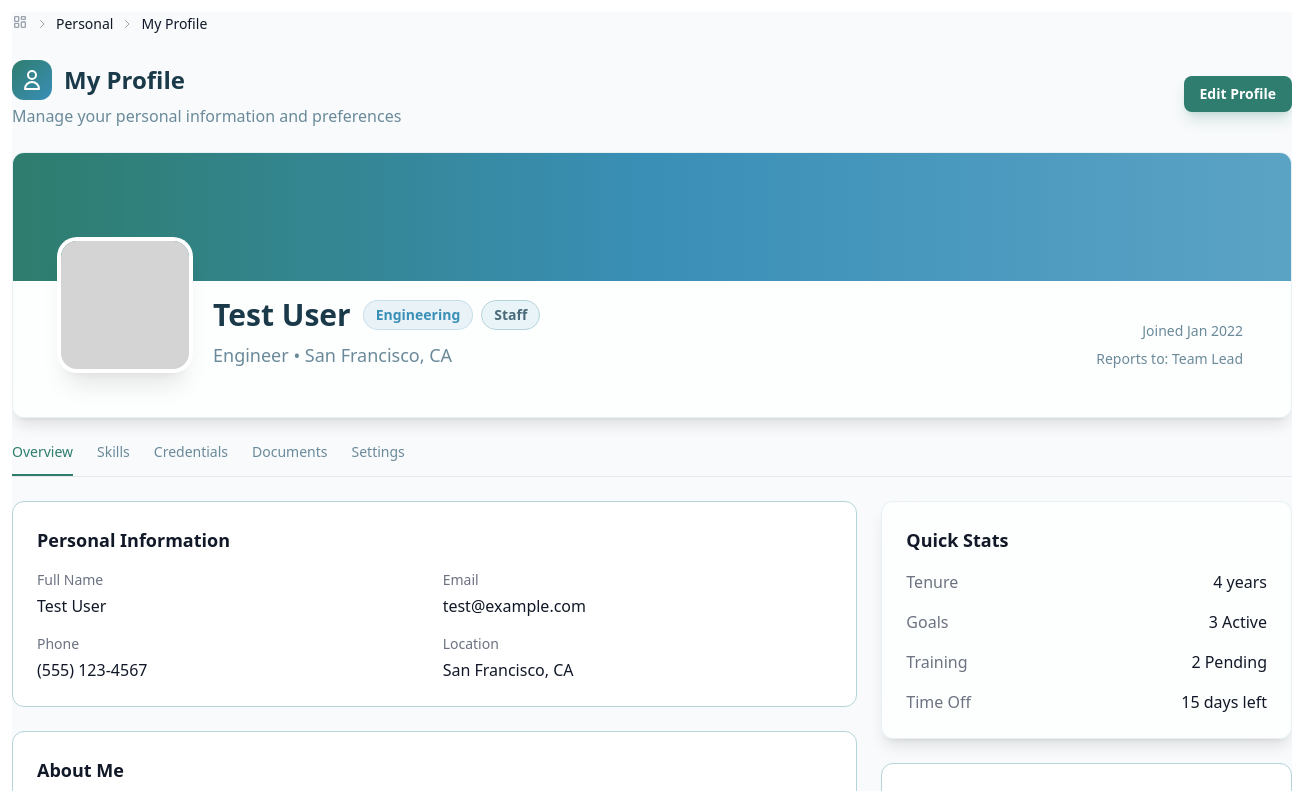
Profile Component › toggles edit mode when Edit Profile is clicked
Click the button "Edit Profile" at point(1238, 94), box [1184,76,1292,112]
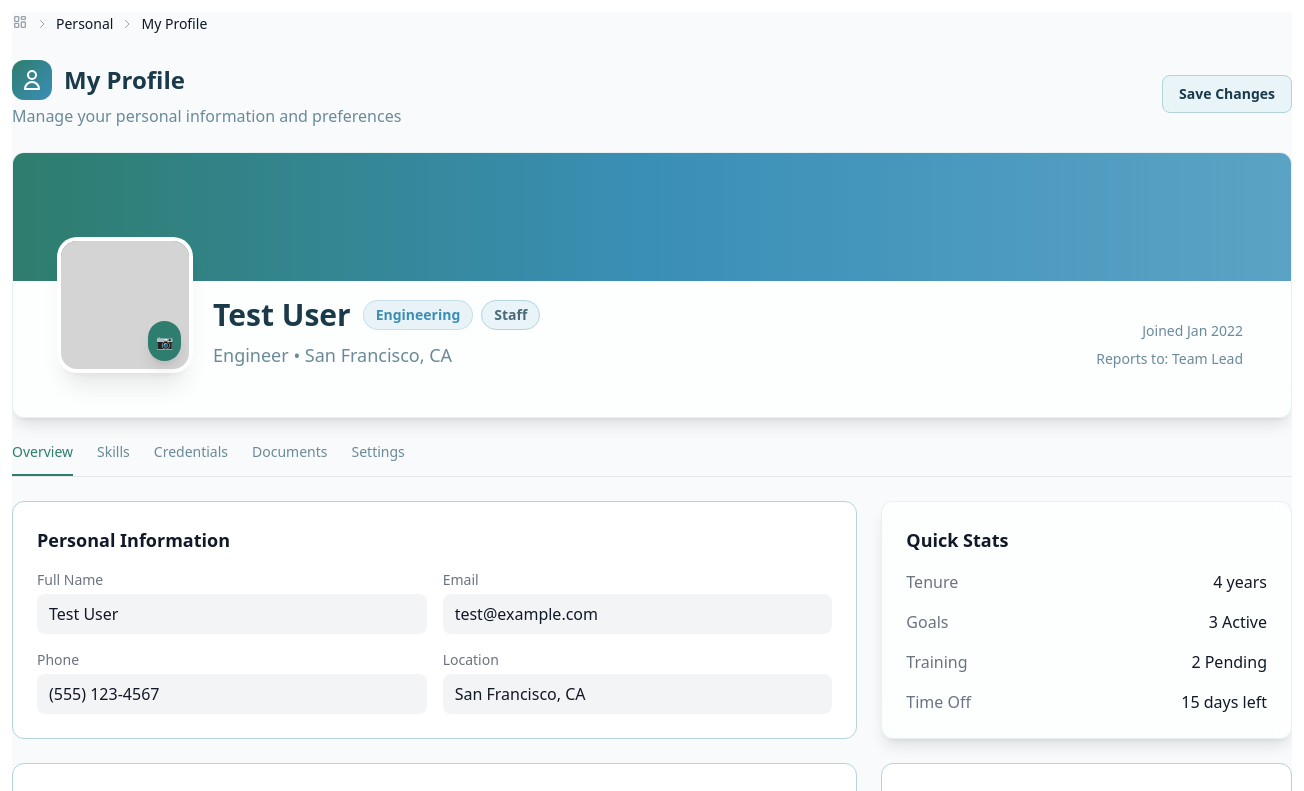
Check: the button "Save Changes" is shown, box [1162,75,1292,113]
